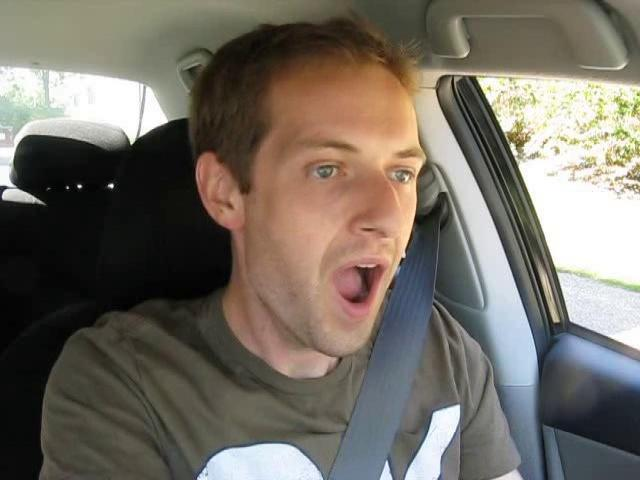eye_open: (301, 154, 351, 188), (383, 162, 418, 186)
face: (269, 122, 424, 358)
mouth_open: (327, 252, 390, 321)
